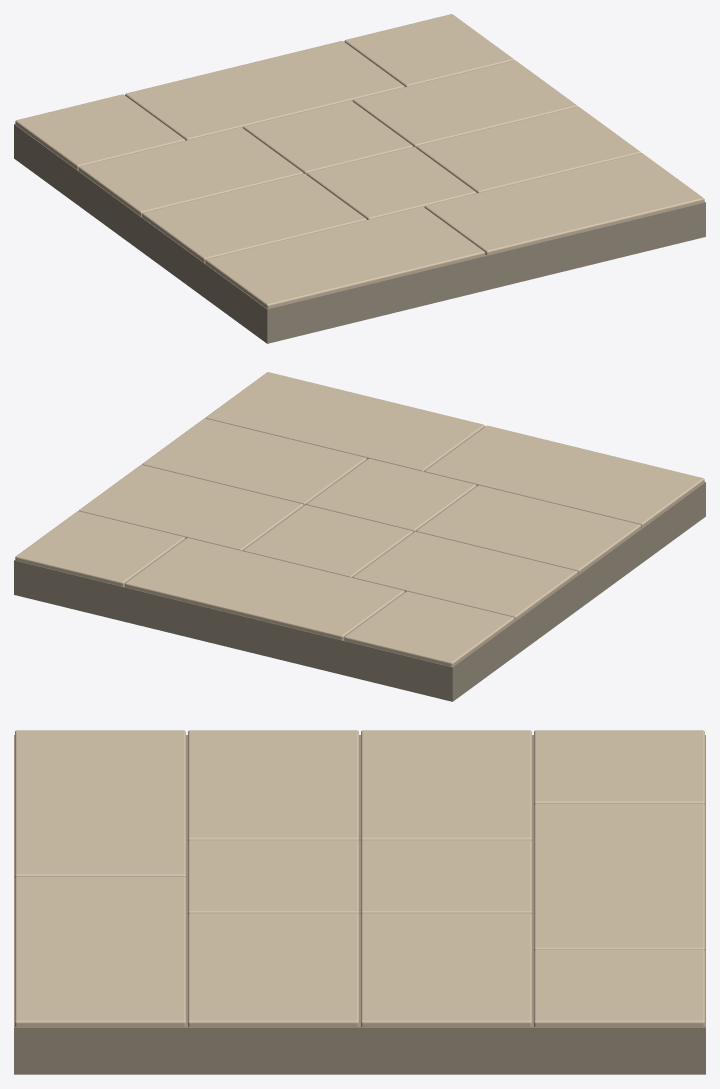
The model's file is PavingC_2m.fbx.
3 renders of one model, top to bottom at view 1: azimuth 30°, elevation 25°; view 2: azimuth 150°, elevation 25°; view 3: azimuth 270°, elevation 25°, orthographic. The views are drawn at different scales.
Visible parts, largest first — view 1: PavingC_2m.001; view 2: PavingC_2m.001; view 3: PavingC_2m.001.
Part boxes in pixels (bbox=[...]): PavingC_2m.001: bbox=[14, 14, 705, 343]; PavingC_2m.001: bbox=[14, 372, 705, 701]; PavingC_2m.001: bbox=[14, 730, 705, 1074].
Bounding box in the file's own units: 2 × 0.168 × 2.
